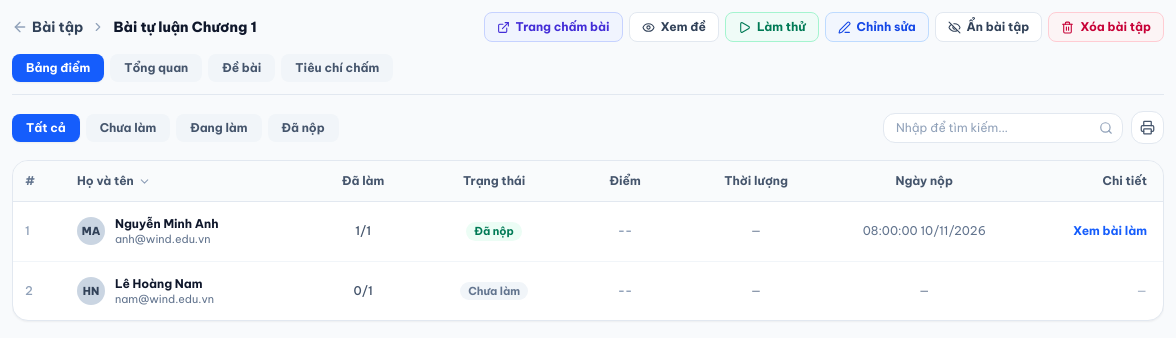
Test case: C06c Questions tab debounce & grading state isolation › gõ lọc học sinh và đổi tab con trong ClassWorkDetailView không re-render thành phần cha
The width and height of the screenshot is (1176, 338).
Later steps or results of the test are not shown.
Type "Minh Anh" into the field with placeholder "Nhập để tìm kiếm...". click: (1003, 128)
box: [883,112,1123,142]
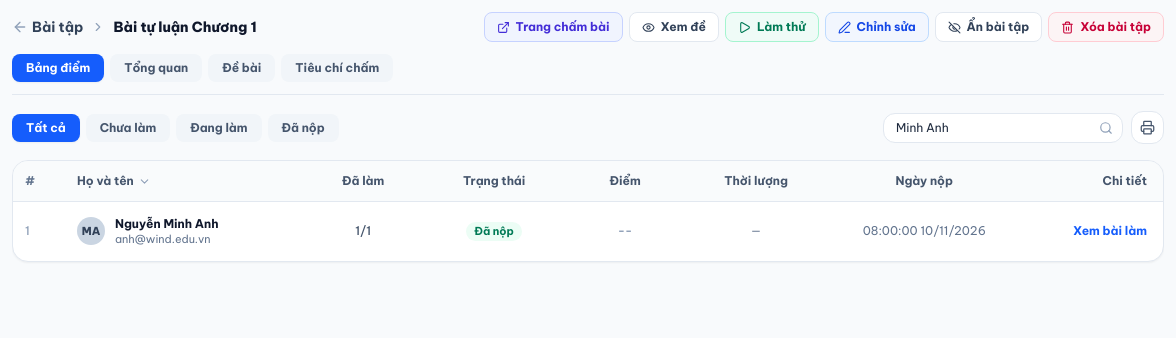
Expected: the text "Nguyễn Minh Anh" is shown, [115,216,218,232]
Expected: the text "Lê Hoàng Nam" is gone
